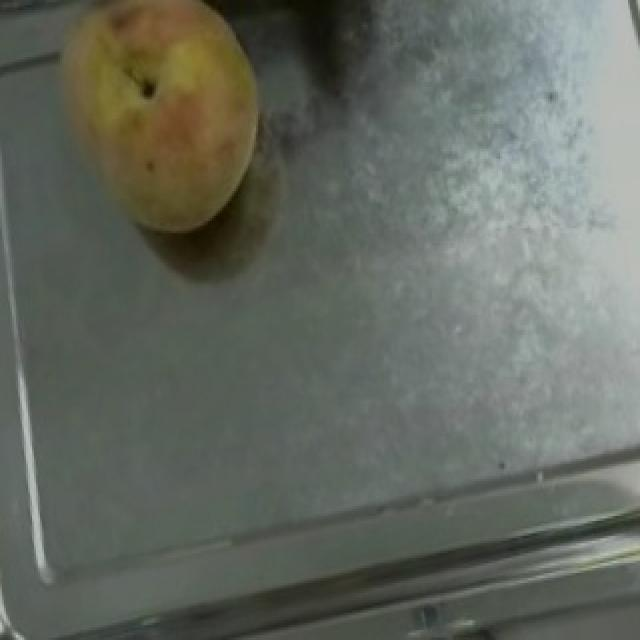Fruit: (26, 0, 282, 258)
